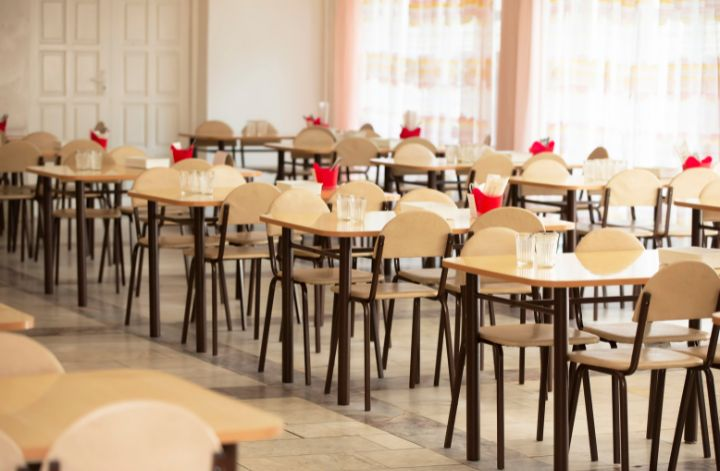m01: (439, 245, 720, 471)
